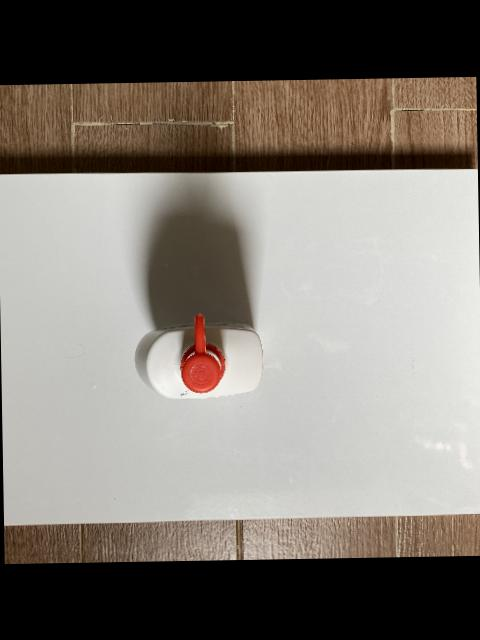life-buoy: (134, 312, 264, 398)
